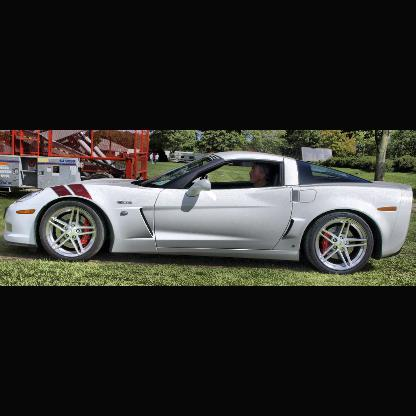Chevrolet Corvette Ron Fellows Edition Z06 2007: (3, 147, 415, 278)
